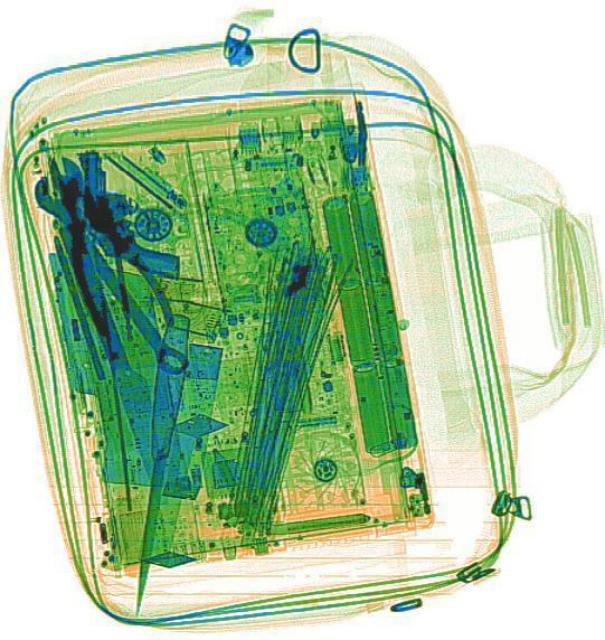Gun: (68, 149, 183, 275)
Knife: (62, 218, 189, 528), (120, 313, 193, 612)
Wrench: (23, 160, 201, 384)
